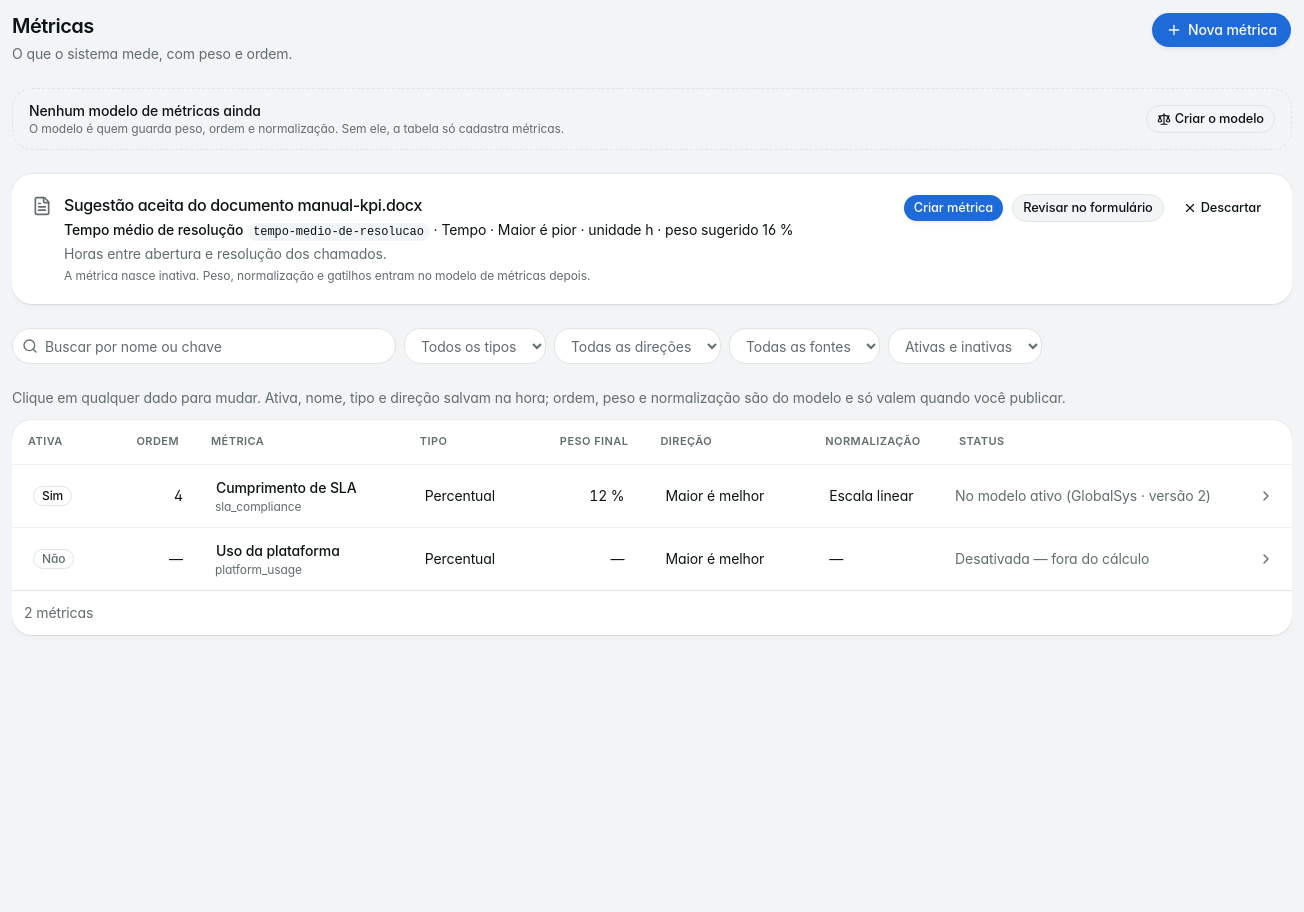
Test: sugestão aceita em /documents (state.prefill) › mostra o erro da API (chave repetida) e permite descartar a sugestão
The image size is (1304, 912).
Click the button "Criar métrica" at (953, 208), box [903,194,1004,222]
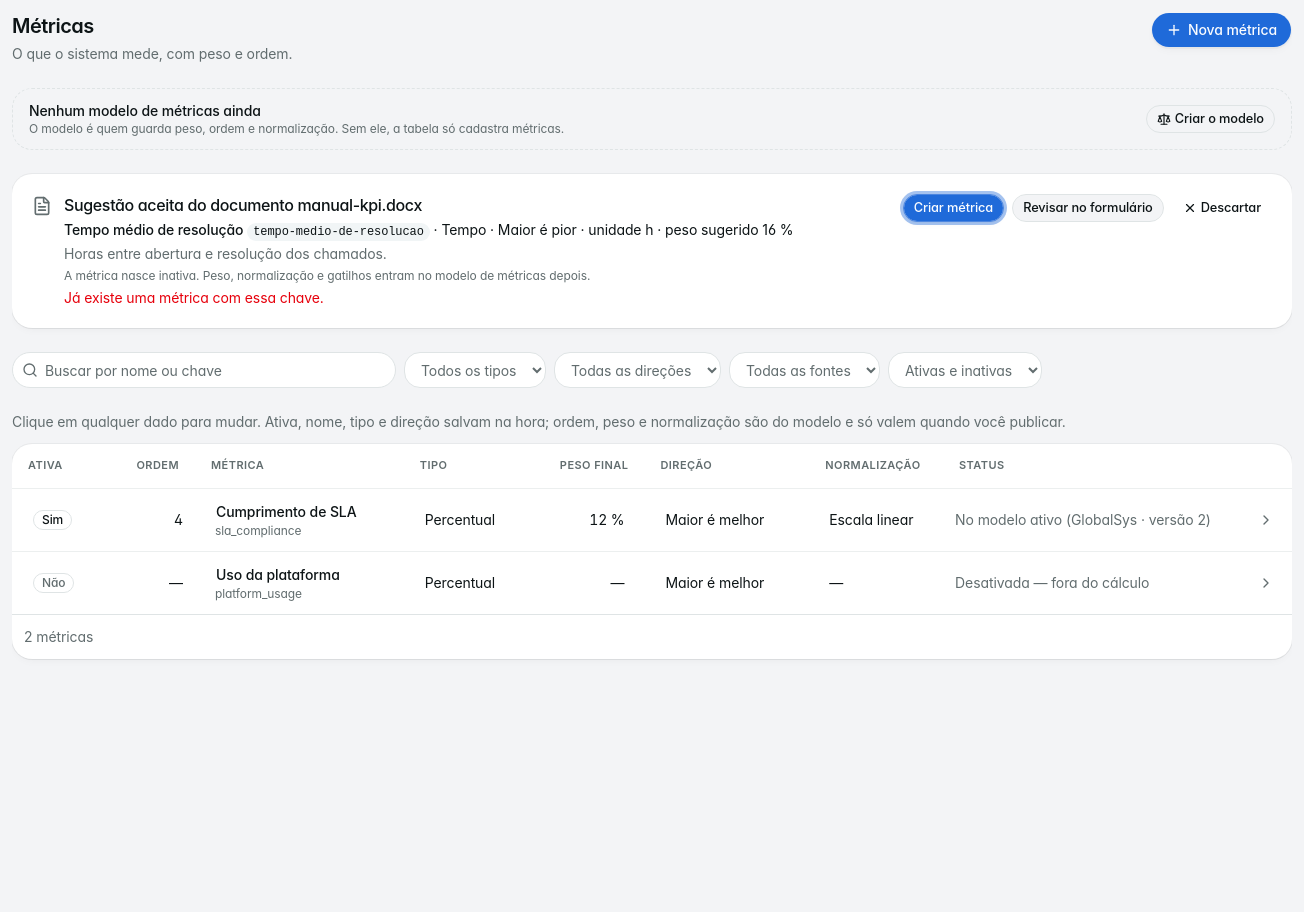
Expected: the message reads "Já existe uma métrica com essa chave.", [64,289,324,306]
Click the button "Descartar" at (1222, 208), box [1172,194,1272,222]
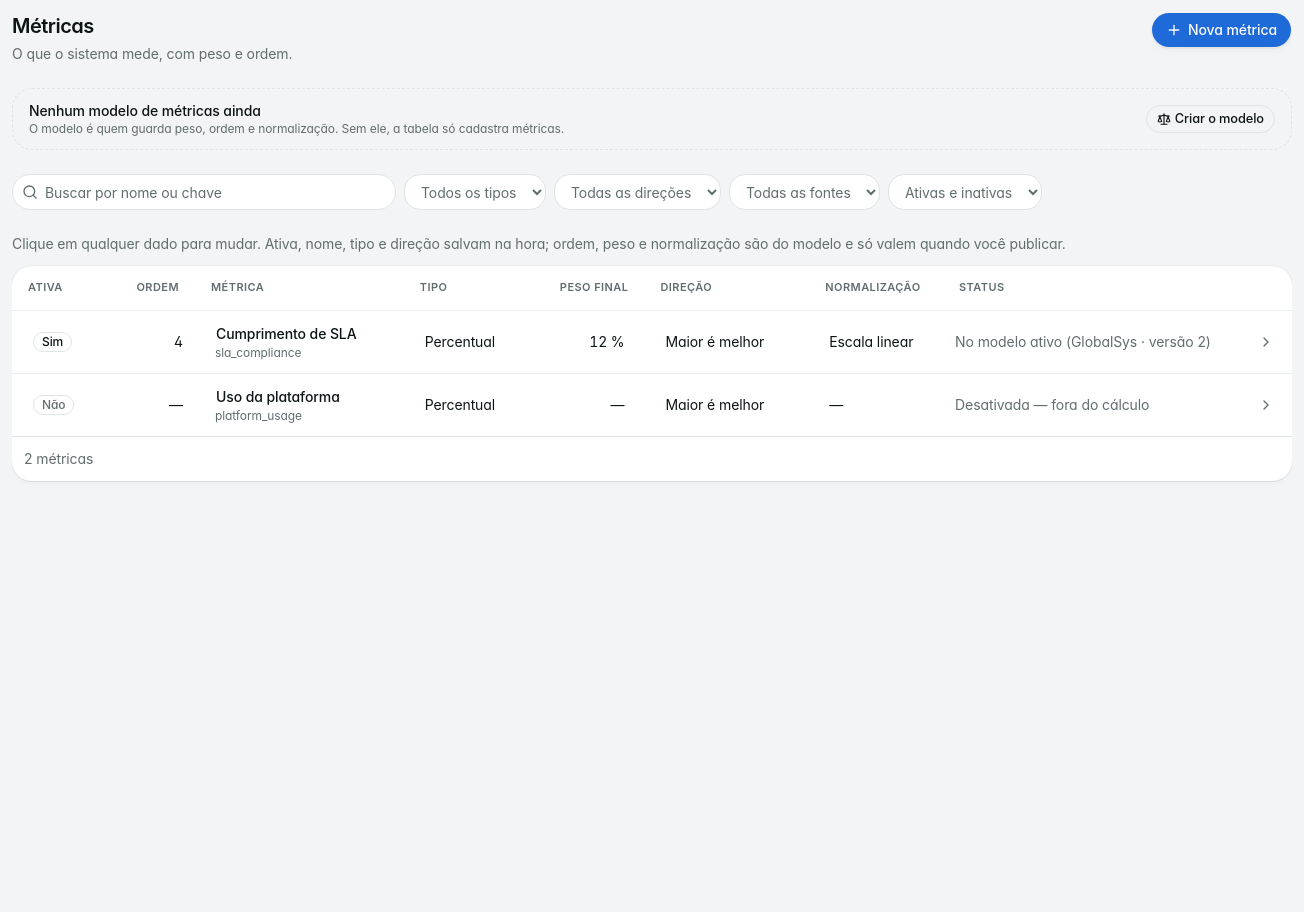
Expected: the table named "Métricas da organização" is shown, [12,266,1292,436]
Expected: the heading "Sugestão aceita" is gone
